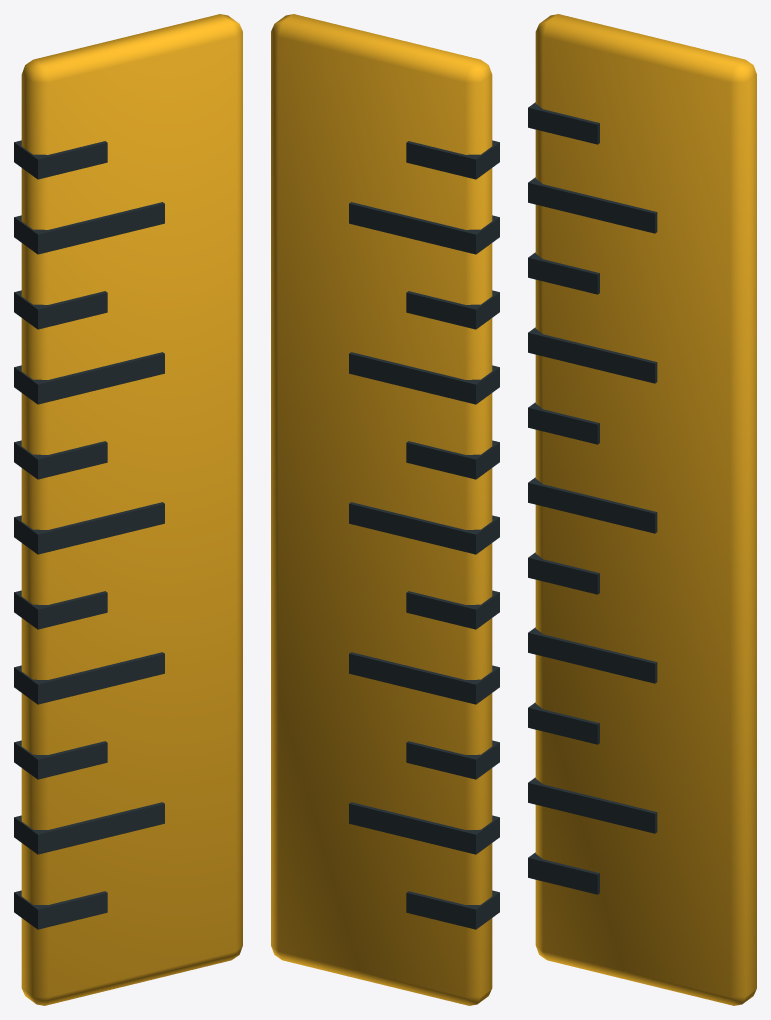
Rendered from ruler.gltf.glb.
3 views of the same model, side by side, from view 1: azimuth 30°, elevation 25°; view 2: azimuth 150°, elevation 25°; view 3: azimuth 330°, elevation 25° (orthographic).
Visible parts, largest first — view 1: ruler; view 2: ruler; view 3: ruler.
Boxes of the visible parts, box(x1,y1,x2,y2) form: ruler: box(14, 14, 242, 1005); ruler: box(271, 14, 499, 1005); ruler: box(528, 14, 756, 1005).
Bounding box in the file's own units: 0.1474 × 0.6253 × 0.0288.
